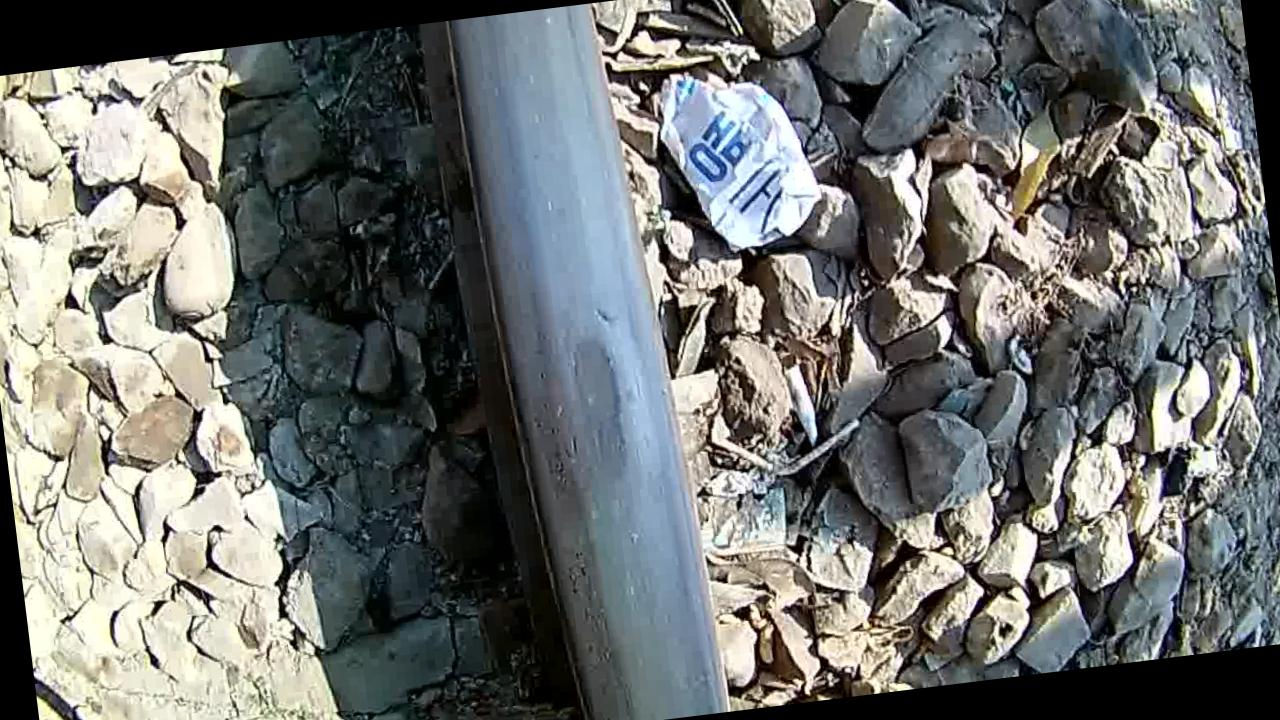bolt_missing: (498, 252, 679, 563)
